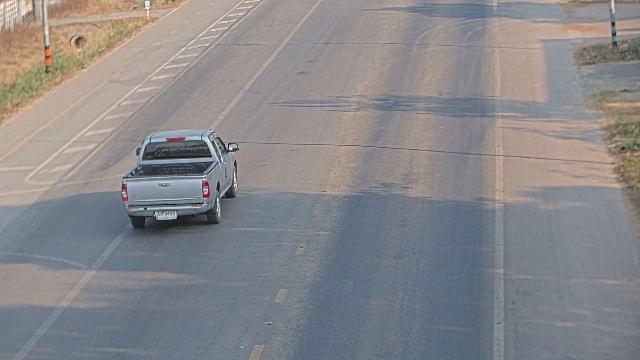pickup-truck: (120, 128, 239, 229)
